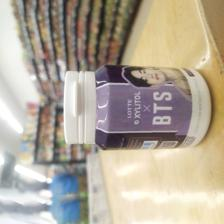Xylitol_BTS: (61, 65, 211, 153)
